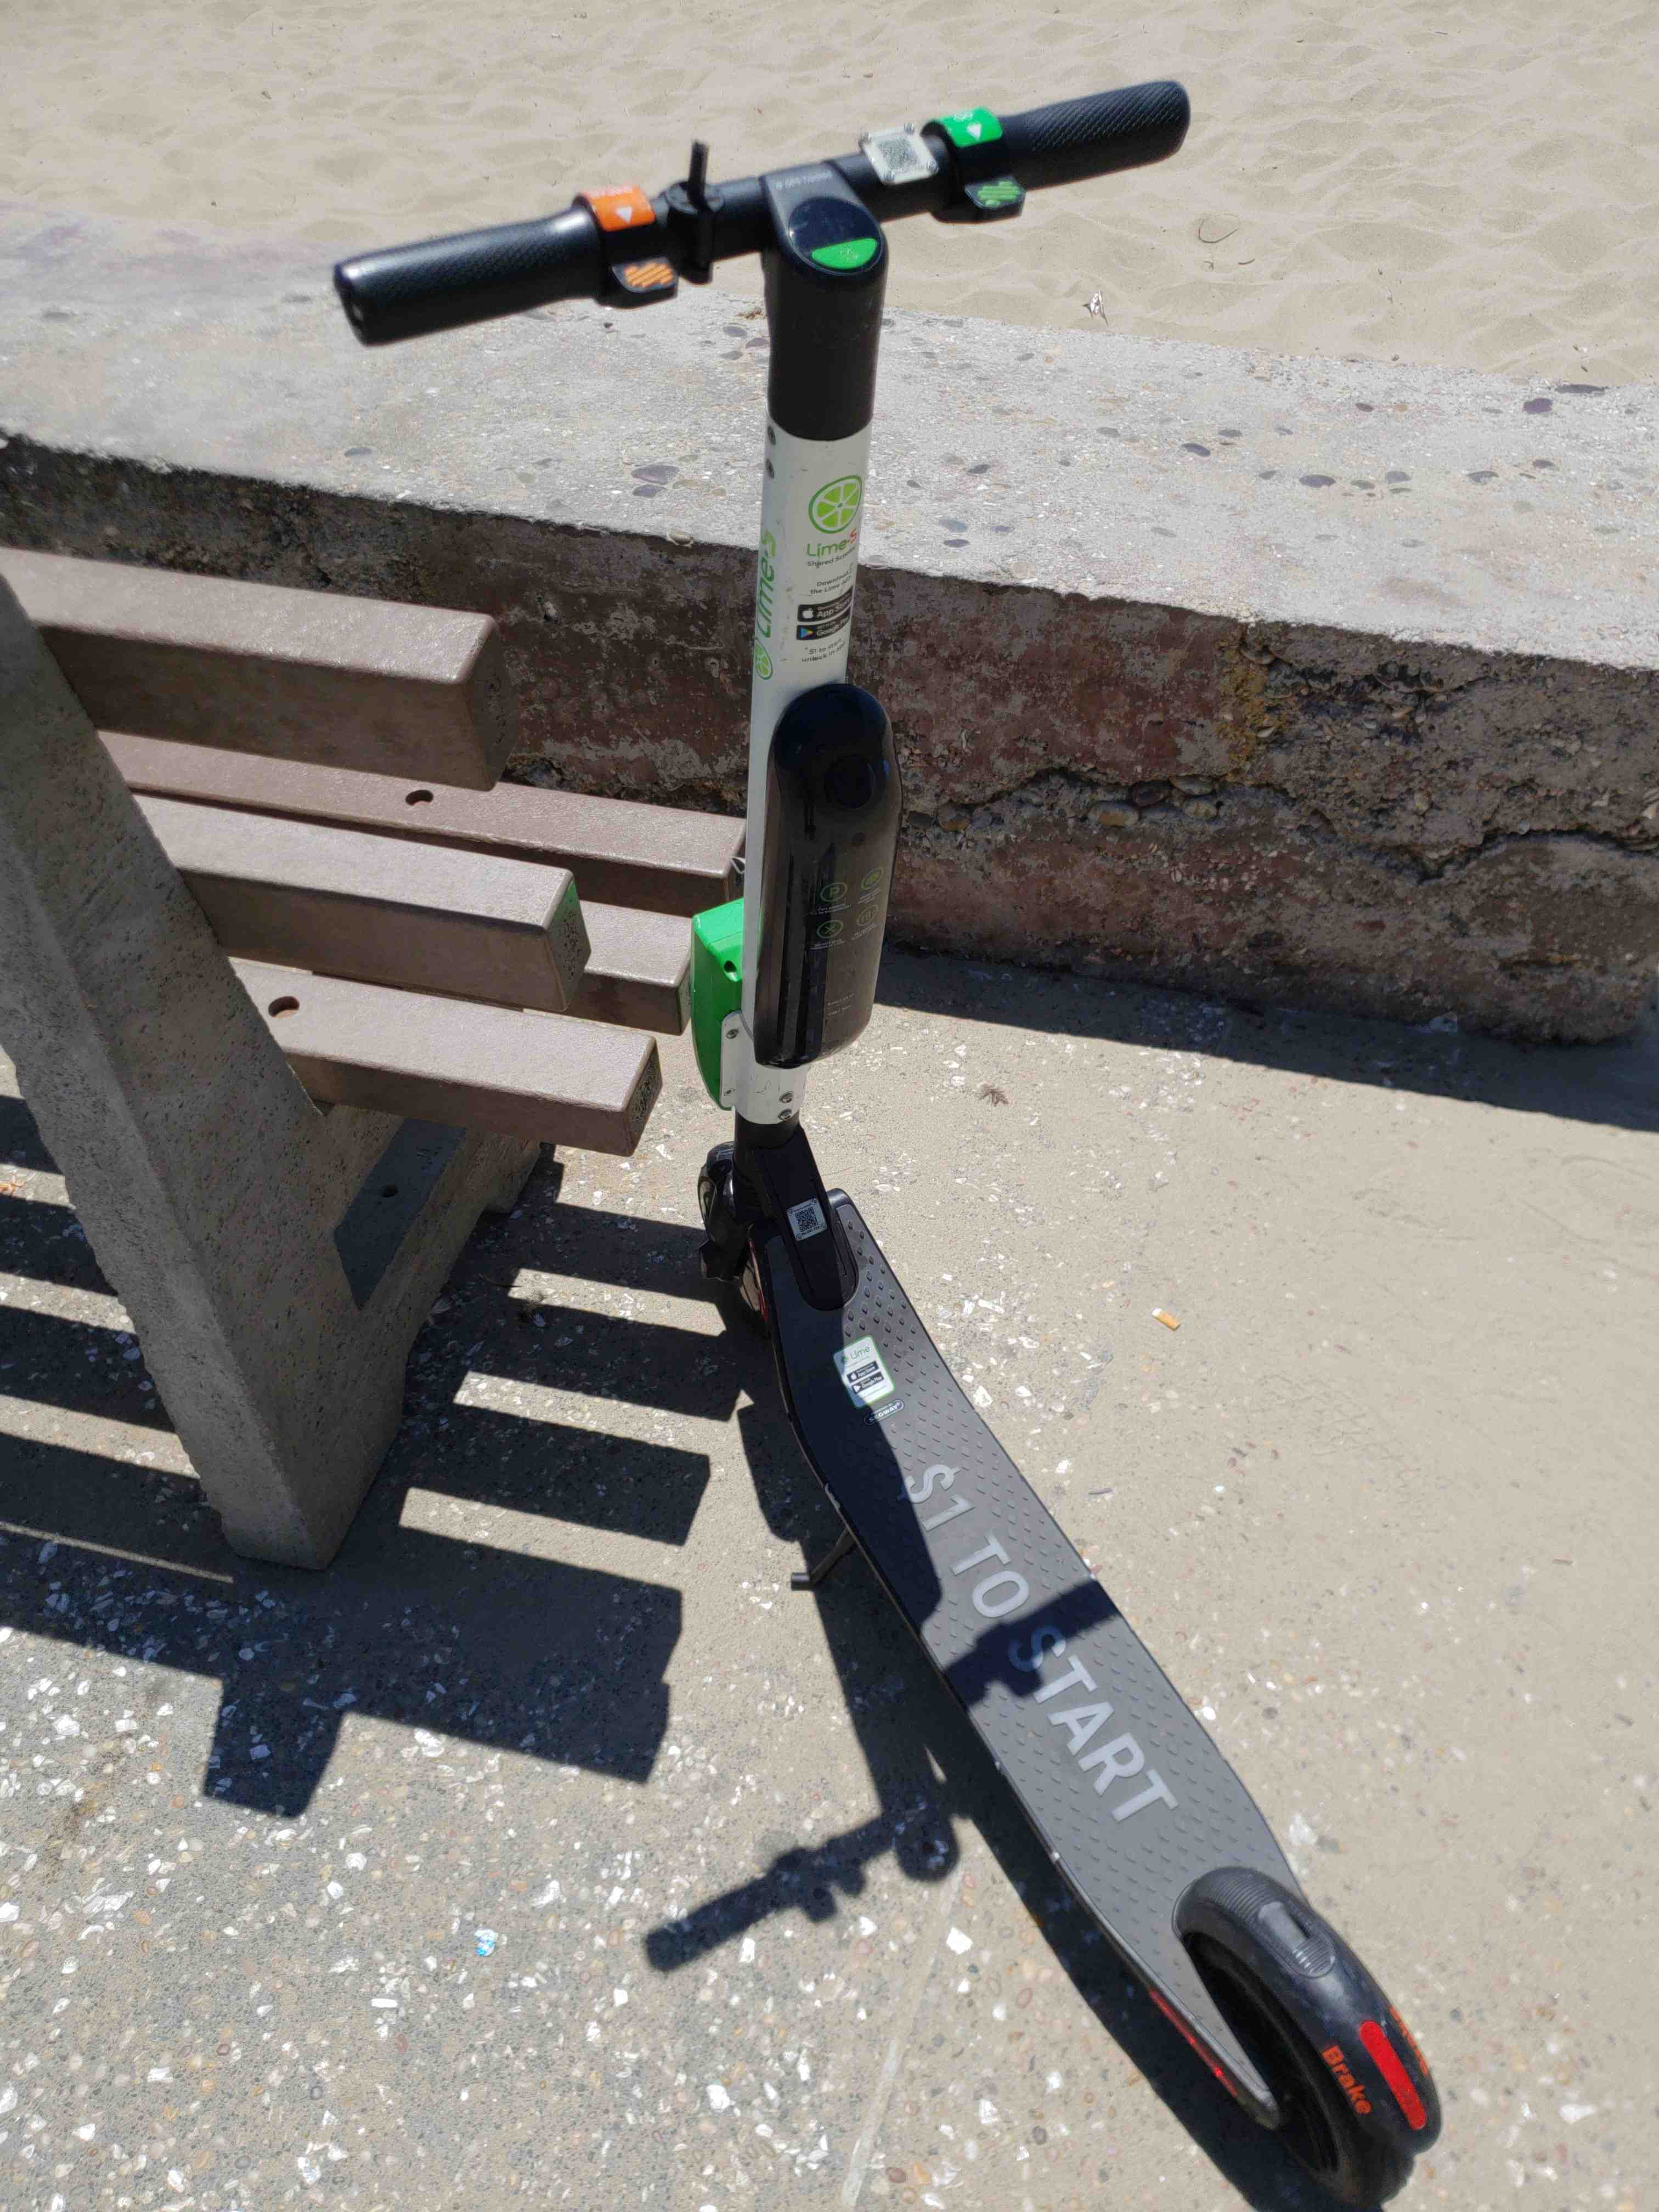scooter: (293, 103, 1506, 2212)
